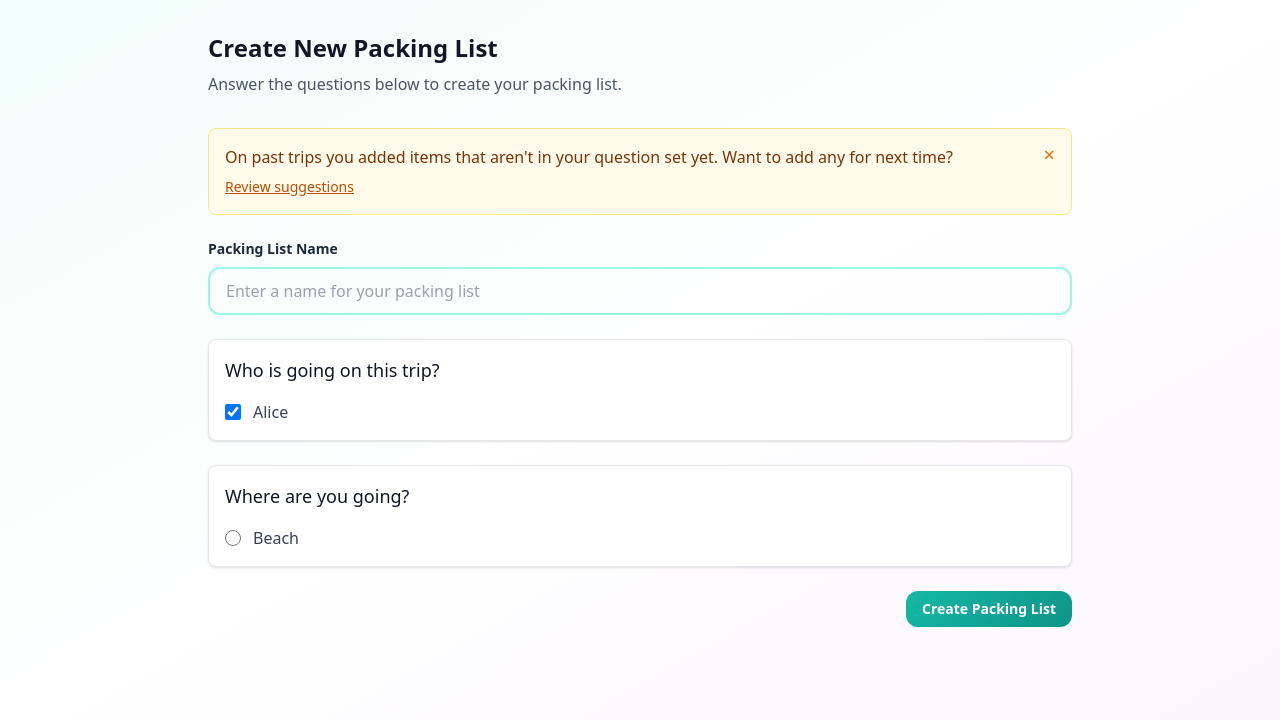
Test: CreatePackingList – suggestion card › dismissing the card hides it
The width and height of the screenshot is (1280, 720).
Expected: the text "past trips you added items" is shown, x1=225 y1=146 x2=953 y2=168
Click the button named "dismiss" at (1049, 155), box x1=1044 y1=145 x2=1055 y2=165
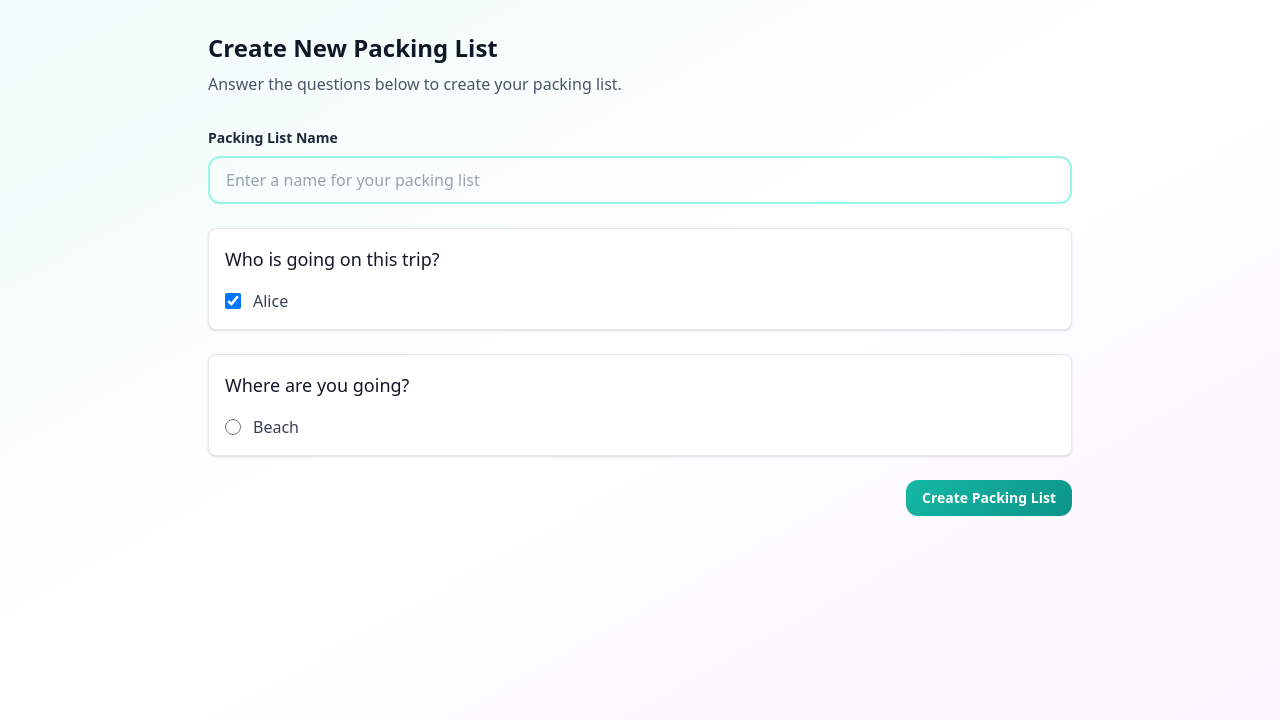
Result: the text "past trips you added items" is gone
